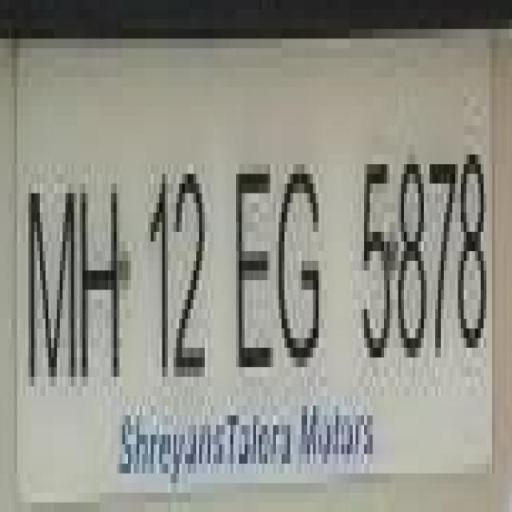number plate: (11, 38, 512, 493)
